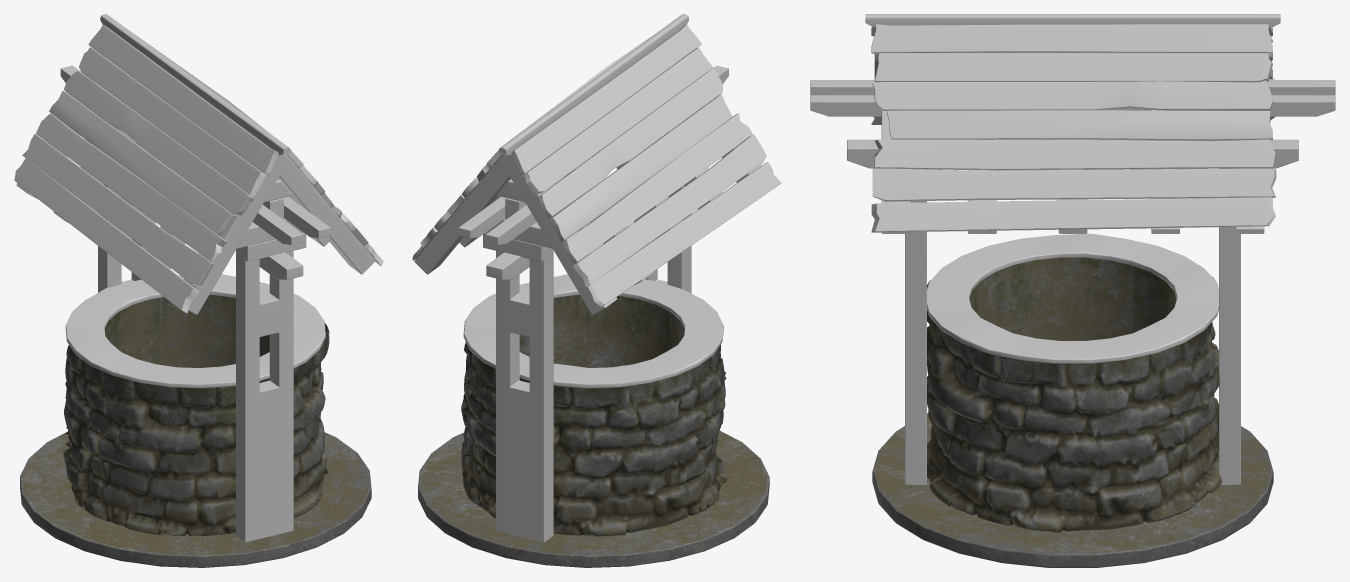
File: SM_Well_01.fbx
The picture shows the model from 3 angles, left to right: view 1: azimuth 30°, elevation 25°; view 2: azimuth 150°, elevation 25°; view 3: azimuth 270°, elevation 25°; orthographic projection. The views are drawn at different scales.
Visible parts, largest first — view 1: SM_Well_01_LOD0; view 2: SM_Well_01_LOD0; view 3: SM_Well_01_LOD0.
Part boxes in pixels (box(x1,y1,x2,y2)): SM_Well_01_LOD0: box(14, 14, 383, 567); SM_Well_01_LOD0: box(412, 14, 781, 567); SM_Well_01_LOD0: box(810, 14, 1335, 567).
Size of the model in its own units: 230 by 303 by 300.
